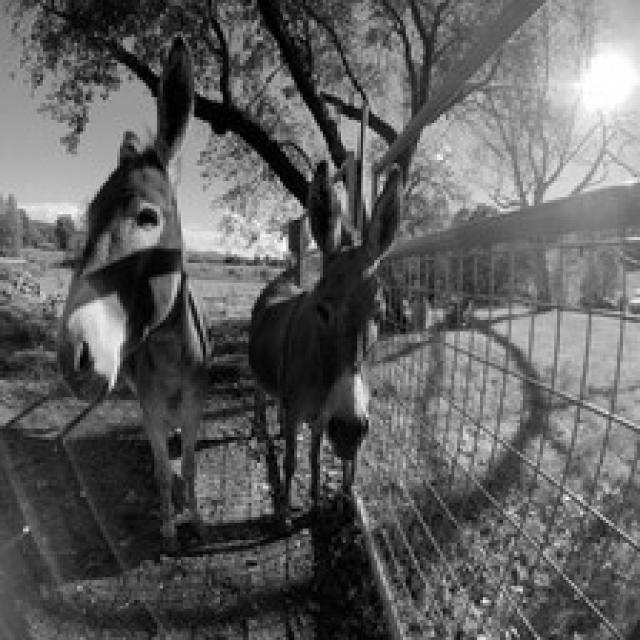Donkey: (55, 31, 212, 552), (245, 154, 406, 526)
